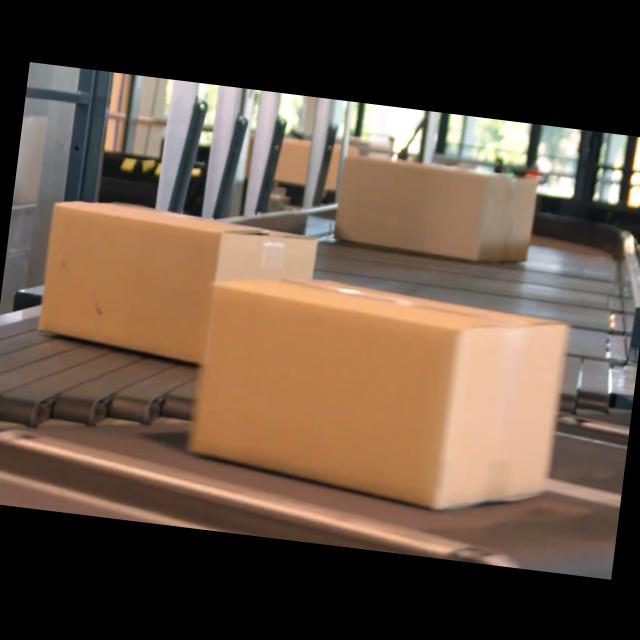box: (180, 263, 572, 516), (36, 190, 322, 378), (332, 150, 542, 268)
